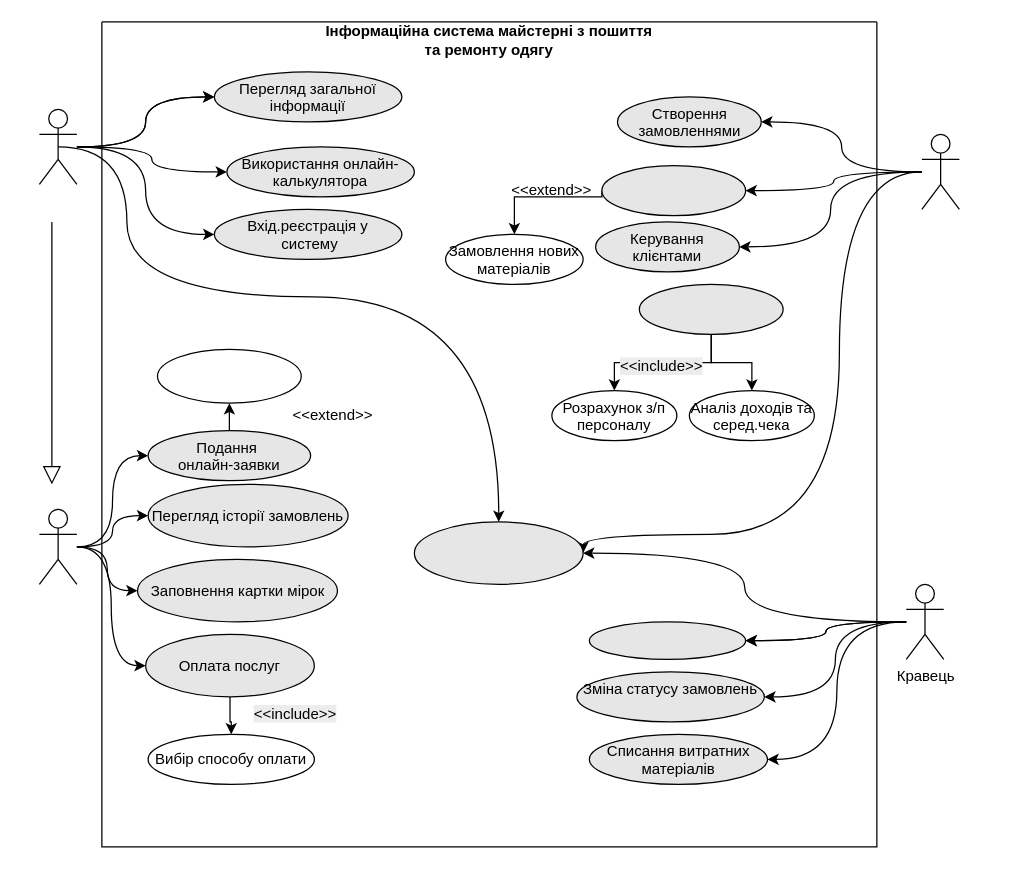
This 1011x869 diagram has some shape labels left out. The box of each missing label's shape, as (x1, y1, x2, y2) in pixels:
Авторизація в системі: (413, 521, 583, 584)
Адміністратор: (921, 133, 959, 209)
Відвідувач: (38, 108, 77, 184)
Додавання коментарів/ескізу: (156, 348, 301, 403)
Керування складом: (601, 164, 746, 216)
Клієнт: (38, 508, 77, 584)
Перегляд завдань: (588, 621, 746, 659)
Формування аналітичних звітів: (638, 283, 783, 334)
